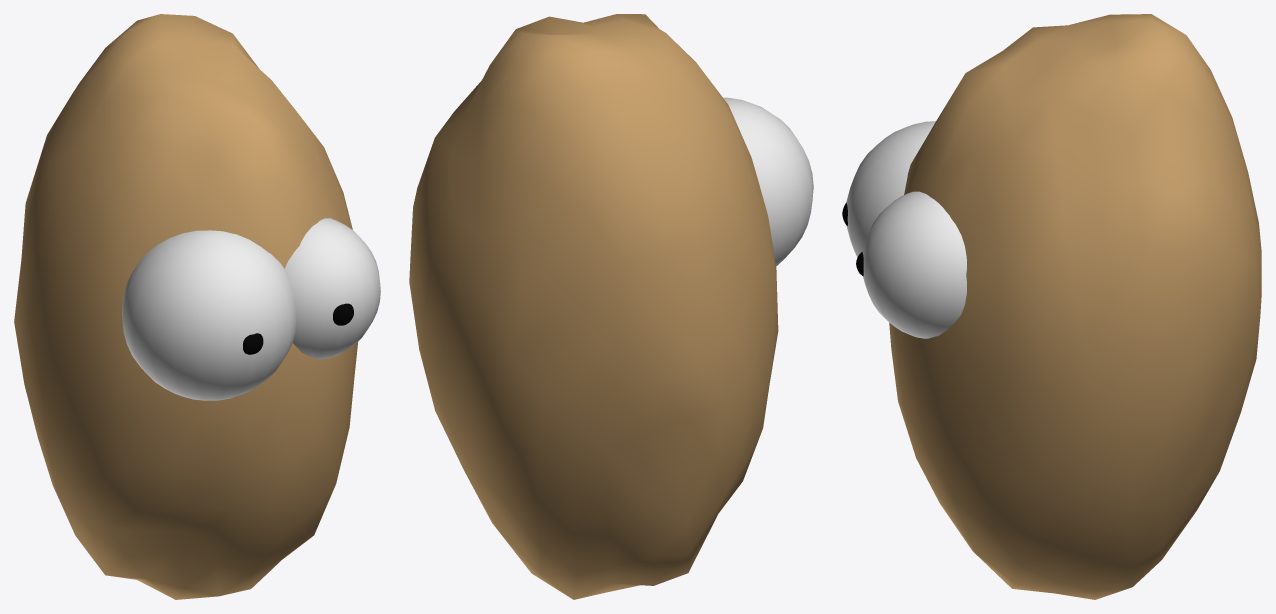
The model's file is Poteiro.fbx.
3 views of the same model, side by side, from view 1: azimuth 30°, elevation 25°; view 2: azimuth 150°, elevation 25°; view 3: azimuth 270°, elevation 25° (orthographic). The views are drawn at different scales.
Visible parts, largest first — view 1: Eyes:Poteiro1; view 2: Eyes:Poteiro1; view 3: Eyes:Poteiro1.
Part boxes in pixels (x1=…): Eyes:Poteiro1: x1=14, y1=14, x2=380, y2=599; Eyes:Poteiro1: x1=409, y1=14, x2=813, y2=599; Eyes:Poteiro1: x1=842, y1=14, x2=1261, y2=599.
Bounding box in the file's own units: 2.03 × 3.56 × 2.37.
